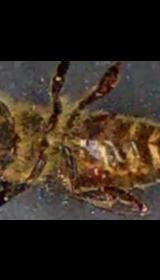varroa_mite: (89, 162, 117, 187)
